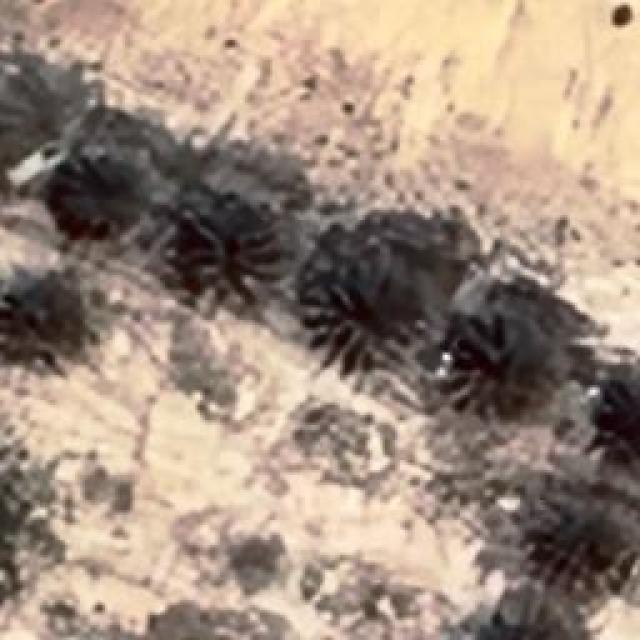PalmTree: (111, 40, 514, 620), (322, 251, 418, 369), (447, 320, 565, 415), (0, 276, 95, 369), (185, 207, 285, 295), (544, 494, 622, 582), (605, 361, 640, 454)
